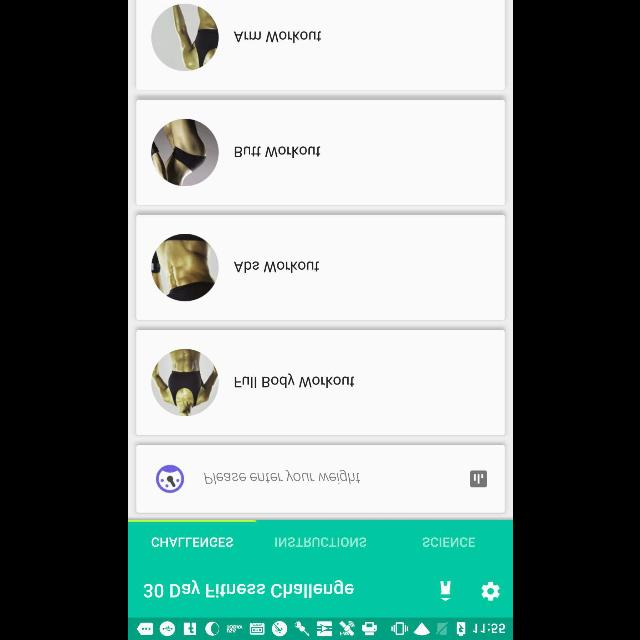icon: (480, 581, 500, 601), (469, 470, 486, 488)
image: (150, 3, 218, 71), (150, 119, 218, 187), (150, 349, 218, 417), (150, 233, 218, 300), (154, 464, 183, 494), (439, 580, 451, 602)
multitab: (128, 519, 512, 547)
panel: (134, 324, 506, 438), (134, 212, 506, 322), (134, 98, 506, 206), (134, 0, 504, 91), (135, 445, 508, 513)
text: (142, 580, 354, 598), (203, 469, 359, 485), (234, 374, 354, 388), (274, 536, 366, 548), (234, 31, 320, 43), (234, 146, 320, 158), (232, 261, 318, 273), (150, 536, 232, 548), (422, 537, 474, 547)
uppertaskbar: (128, 617, 512, 639)
